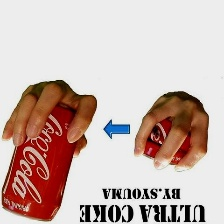can: (0, 101, 82, 223), (134, 109, 199, 170)
